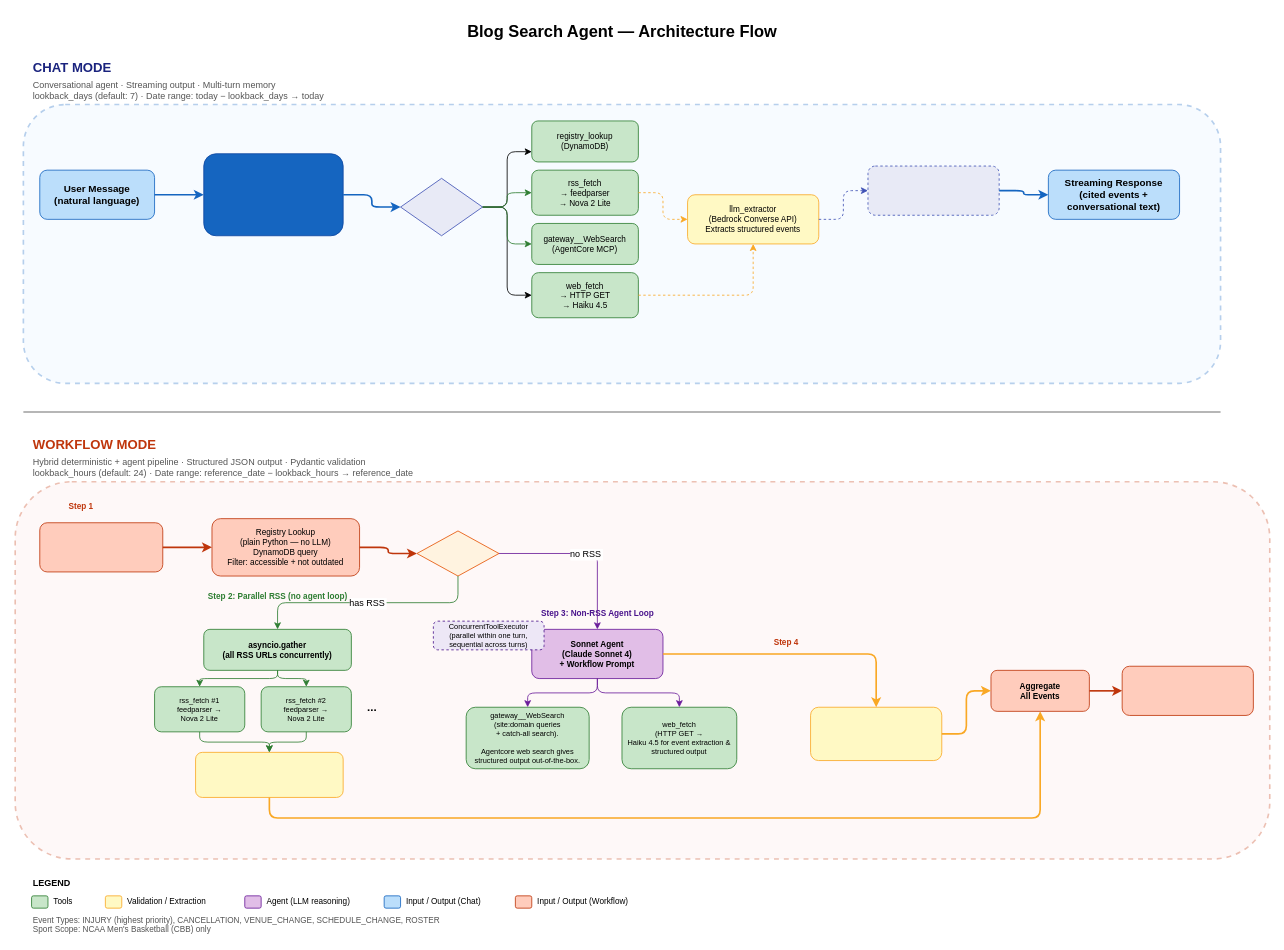
This 1284x950 diagram has some shape labels left out. Here are the shapes that lost their labels. From the top down, the centre of each, then its label:
At pixel 273 194: "Sonnet Agent (Claude Sonnet 4) + System Prompt + AgentCore Memory".
At pixel 441 207: "Agent Decides".
At pixel 933 190: "Agent Loop (think → tools → think) Streaming tokens to user".
At pixel 101 547: "Workflow Payload {team, sport, events, lookback_hours}".
At pixel 457 553: "Split URLs".
At pixel 1187 690: "Structured JSON Output {results: [...], retrieval_diagnostics: {...}}".
At pixel 876 733: "Parse + Validate (up to 2 retries) JSON extraction + Pydantic schema check".
At pixel 269 774: "Pydantic Validation (EventResult schema) Drop malformed events".
